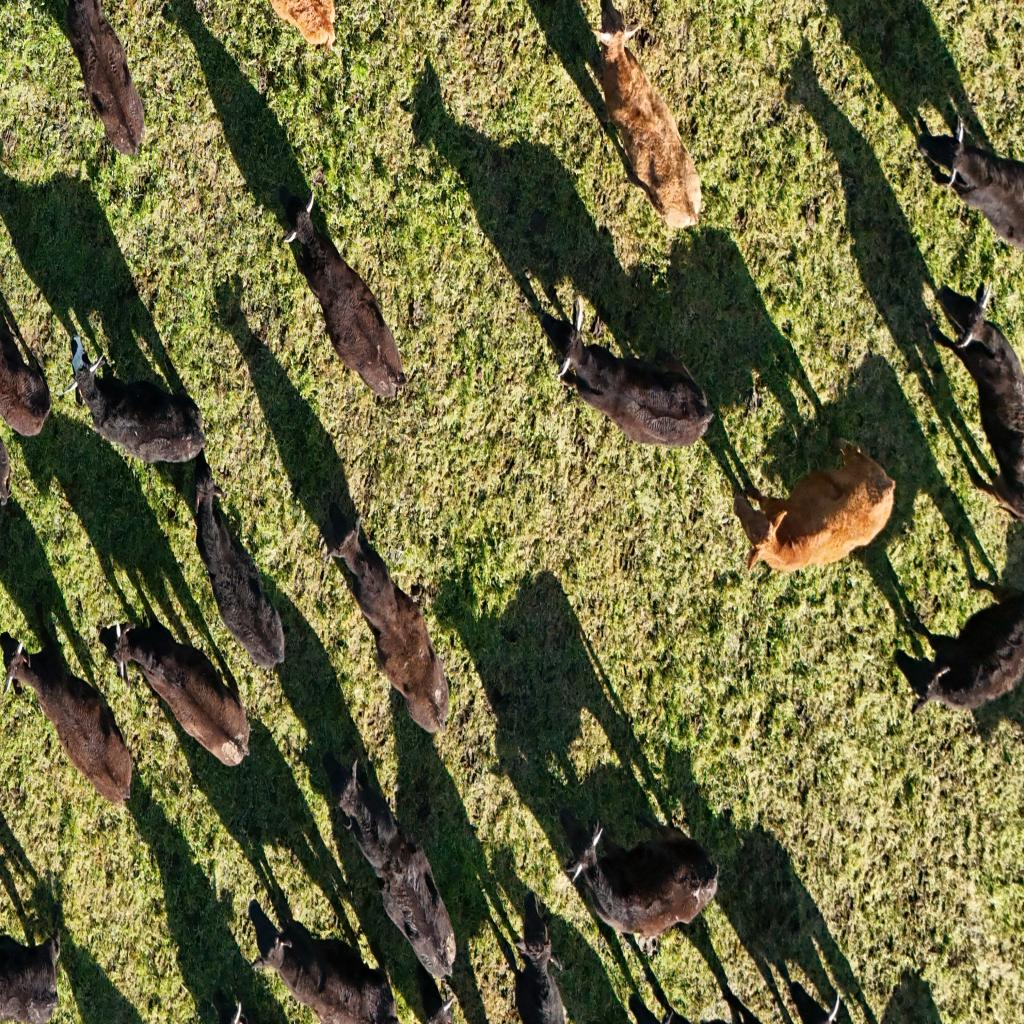cow: (314, 481, 452, 793), (335, 750, 452, 982), (2, 620, 136, 806), (290, 184, 402, 404), (550, 293, 707, 448), (730, 438, 897, 582), (927, 279, 1023, 529), (103, 612, 251, 772), (595, 1, 697, 230), (562, 810, 710, 957), (191, 453, 287, 672), (250, 892, 396, 1022), (64, 339, 208, 465), (892, 582, 1024, 717), (916, 113, 1024, 259), (63, 0, 148, 160), (507, 884, 568, 1022), (0, 280, 52, 440), (0, 920, 63, 1021)
